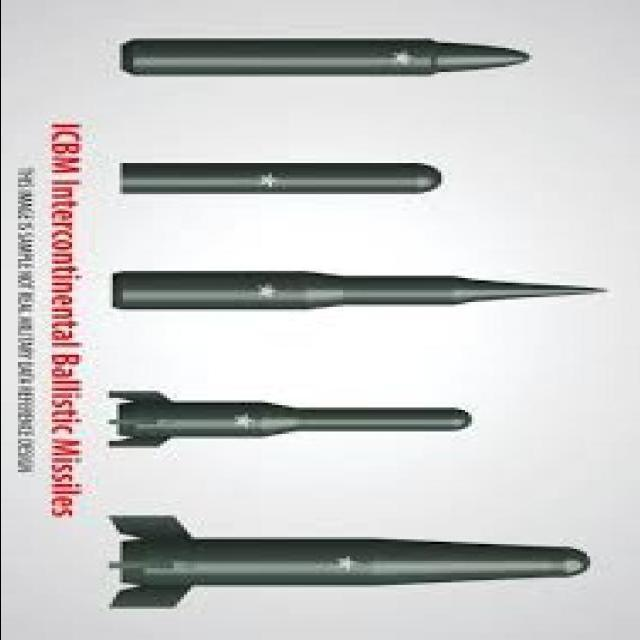Missile: (99, 501, 606, 624), (96, 371, 512, 462), (107, 256, 628, 317), (113, 31, 537, 82), (107, 151, 453, 209)
